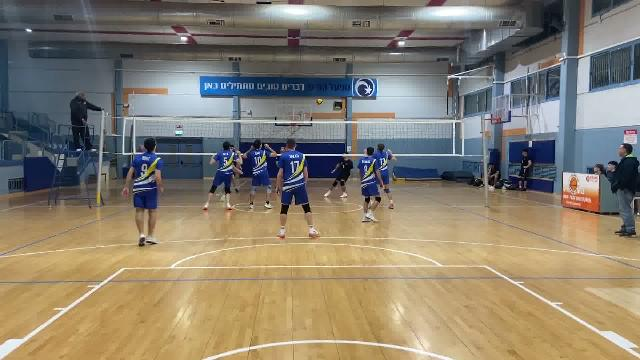ball: (315, 95, 325, 107)
